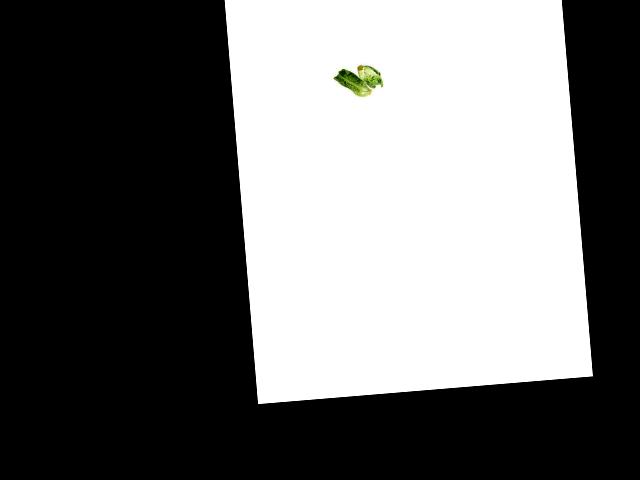lettuce: (334, 57, 385, 99)
